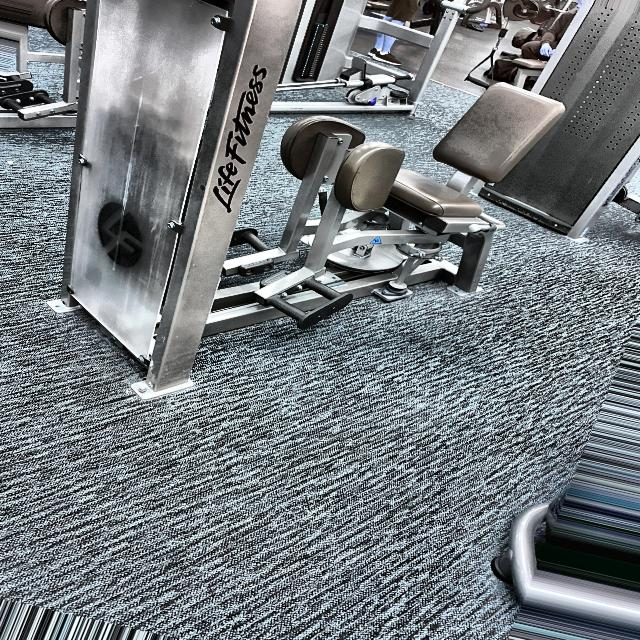hip_adduction_machine: (284, 109, 528, 306)
